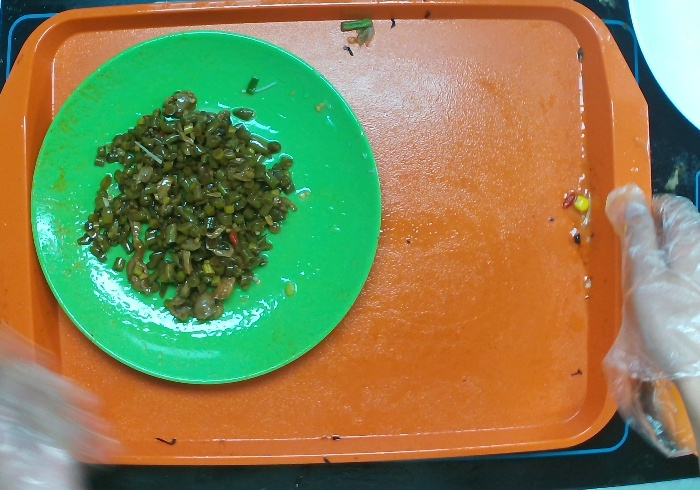HZYJPL-Lv_Se_Yuan_Pan: (20, 27, 386, 382)
